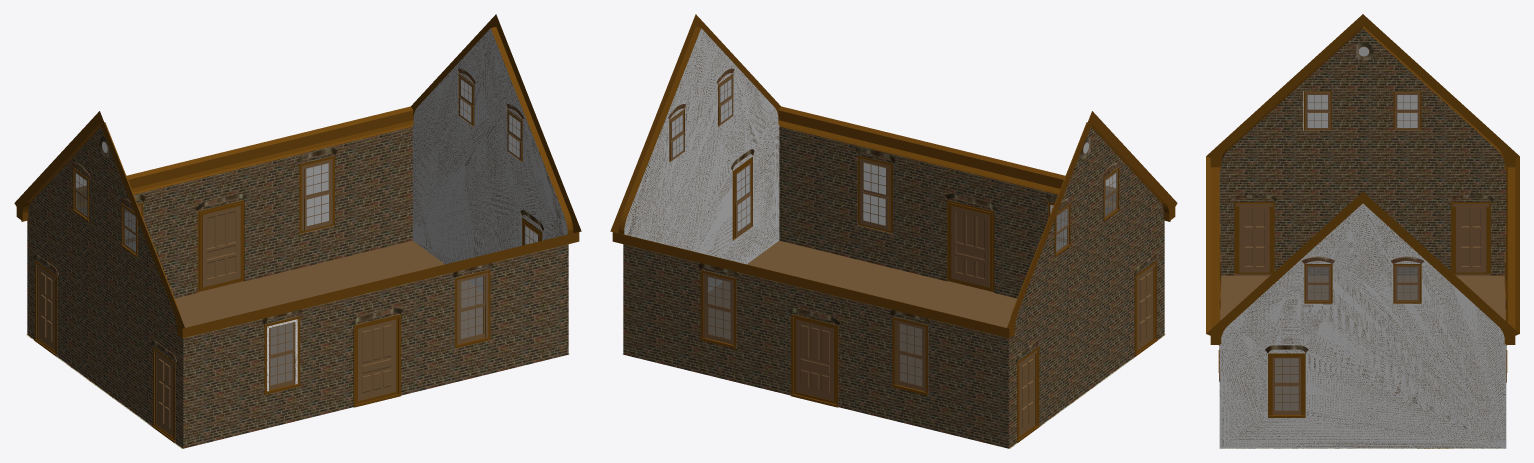
The model's file is brick_house p2.dae.
The picture shows the model from 3 angles, left to right: view 1: azimuth 30°, elevation 25°; view 2: azimuth 150°, elevation 25°; view 3: azimuth 270°, elevation 25°; orthographic projection. The views are drawn at different scales.
Parts seen in each view (by area): view 1: SketchUp (×15); view 2: SketchUp (×15); view 3: SketchUp (×18).
Part boxes in pixels (box(x1,y1,x2,y2)): SketchUp (×15): box(14, 14, 581, 448); SketchUp (×15): box(610, 14, 1177, 448); SketchUp (×18): box(1206, 14, 1519, 448).
Size of the model in its own units: 402 by 300 by 274.
